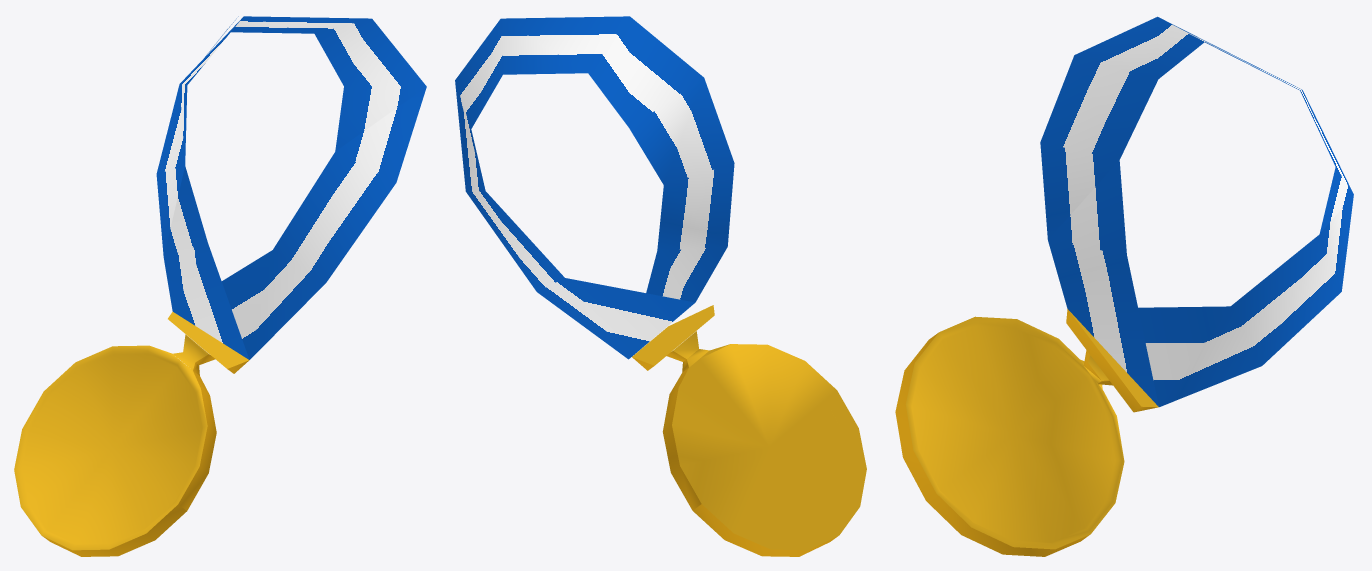
The model's file is ps2_save-icons_socceramerica-us-eu.glb.
3 views of the same model, side by side, from view 1: azimuth 30°, elevation 25°; view 2: azimuth 150°, elevation 25°; view 3: azimuth 330°, elevation 25° (orthographic). The views are drawn at different scales.
Parts seen in each view (by area): view 1: icon0.ico; view 2: icon0.ico; view 3: icon0.ico.
Boxes of the visible parts, left/top/right/bottom form: icon0.ico: left=14, top=16, right=426, bottom=556; icon0.ico: left=455, top=16, right=866, bottom=556; icon0.ico: left=895, top=16, right=1353, bottom=556.
Bounding box in the file's own units: 3.53 × 4.2 × 0.6089.
1 material, 1 textured.
